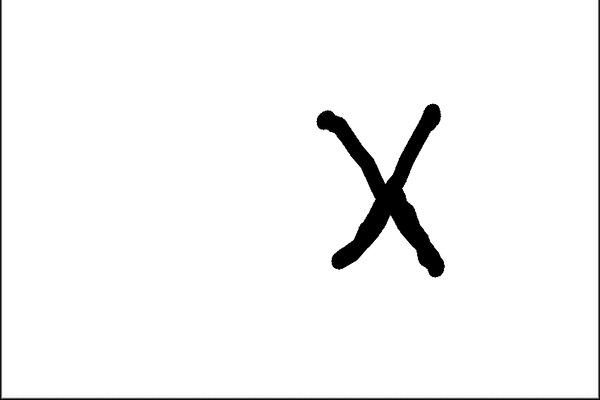X: (297, 94, 452, 310)
